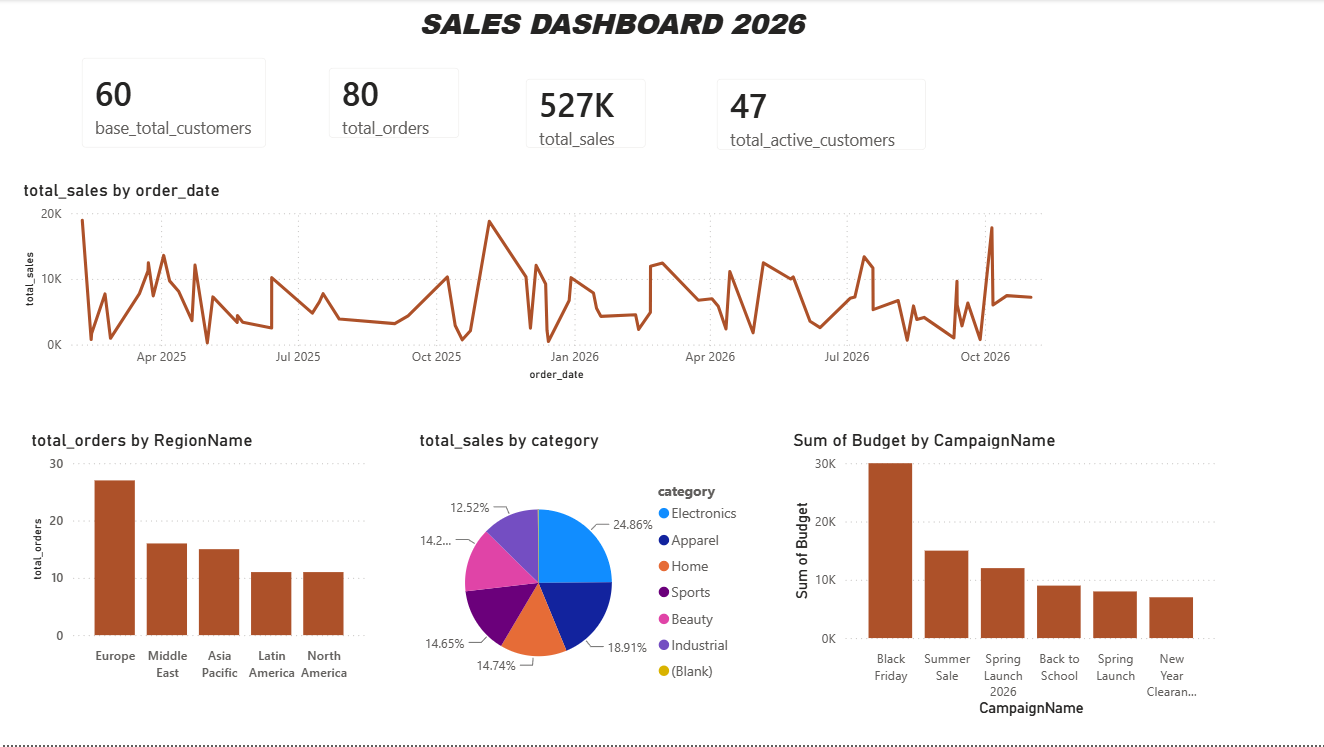

This screenshot's page, from the dashboard's own definition file:
{"tool":"powerbi","page":{"name":"Page 2","canvas":[1280,720],"ordinal":1},"visuals":[{"type":"cardVisual","fields":{"Data":["_meaasures.total_sales"]},"box":[490,59.8,150.5,101.3],"z":0},{"type":"cardVisual","fields":{"Data":["_meaasures.base_total_customers"]},"box":[61.7,39.5,212.2,121.5],"z":1000},{"type":"cardVisual","fields":{"Data":["_meaasures.total_active_customers"]},"box":[674.2,59.8,236.3,103.2],"z":2000},{"type":"cardVisual","fields":{"Data":["_meaasures.total_orders"]},"box":[300,49.2,160.1,102.2],"z":3000},{"type":"textbox","box":[399.8,0,438.7,58.4],"z":4000},{"type":"columnChart","fields":{"Category":["dim_customers.RegionName"],"Y":["_meaasures.total_orders"]},"box":[25.1,414.8,332.8,249.8],"z":5000},{"type":"pieChart","fields":{"Y":["_meaasures.total_sales"],"Category":["dim_products.category"]},"box":[399.3,414.8,325.1,277.8],"z":6000},{"type":"clusteredColumnChart","fields":{"Y":["Sum(dim_campaign.Budget)"],"Category":["dim_campaign.CampaignName"]},"box":[760.1,414.8,418.6,281.7],"z":7000},{"type":"lineChart","fields":{"Y":["_meaasures.total_sales"],"Category":["fact_sales.order_date"]},"box":[17.4,173.6,1006.1,198.7],"z":8000}]}

Visuals, with their boxes in screenshot pixels (x1, y1, x2, y2), scaled from the page's 1280x720 canvas onto the 1324x747 screenshot:
cardVisual - _meaasures.total_sales: 507/62/663/167
cardVisual - _meaasures.base_total_customers: 64/41/283/167
cardVisual - _meaasures.total_active_customers: 697/62/942/169
cardVisual - _meaasures.total_orders: 310/51/476/157
textbox: 414/0/867/61
columnChart - dim_customers.RegionName x _meaasures.total_orders: 26/430/370/690
pieChart - _meaasures.total_sales x dim_products.category: 413/430/749/719
clusteredColumnChart - Sum(dim_campaign.Budget) x dim_campaign.CampaignName: 786/430/1219/723
lineChart - _meaasures.total_sales x fact_sales.order_date: 18/180/1059/386
